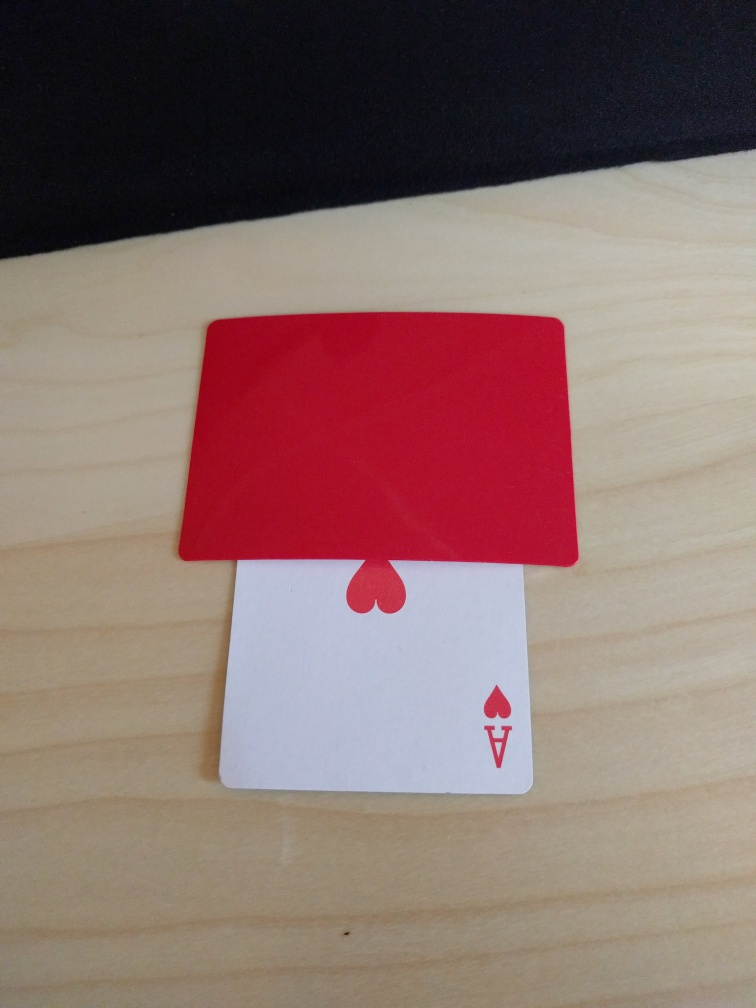ace: (217, 559, 535, 797)
